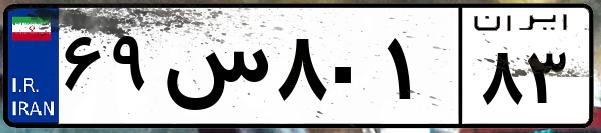0: (330, 28, 385, 110)
1: (385, 28, 445, 110)
3: (525, 38, 570, 115)
6: (57, 26, 110, 100)
8: (270, 28, 330, 110), (475, 38, 525, 113)
9: (110, 28, 158, 98)
س: (158, 20, 270, 120)
